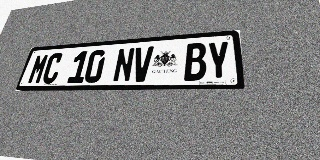0: (83, 50, 107, 83)
1: (67, 51, 90, 83)
B: (184, 42, 206, 81)
C: (41, 53, 64, 84)
M: (27, 54, 50, 84)
N: (112, 47, 135, 82)
V: (131, 46, 154, 82)
Y: (207, 41, 231, 80)
